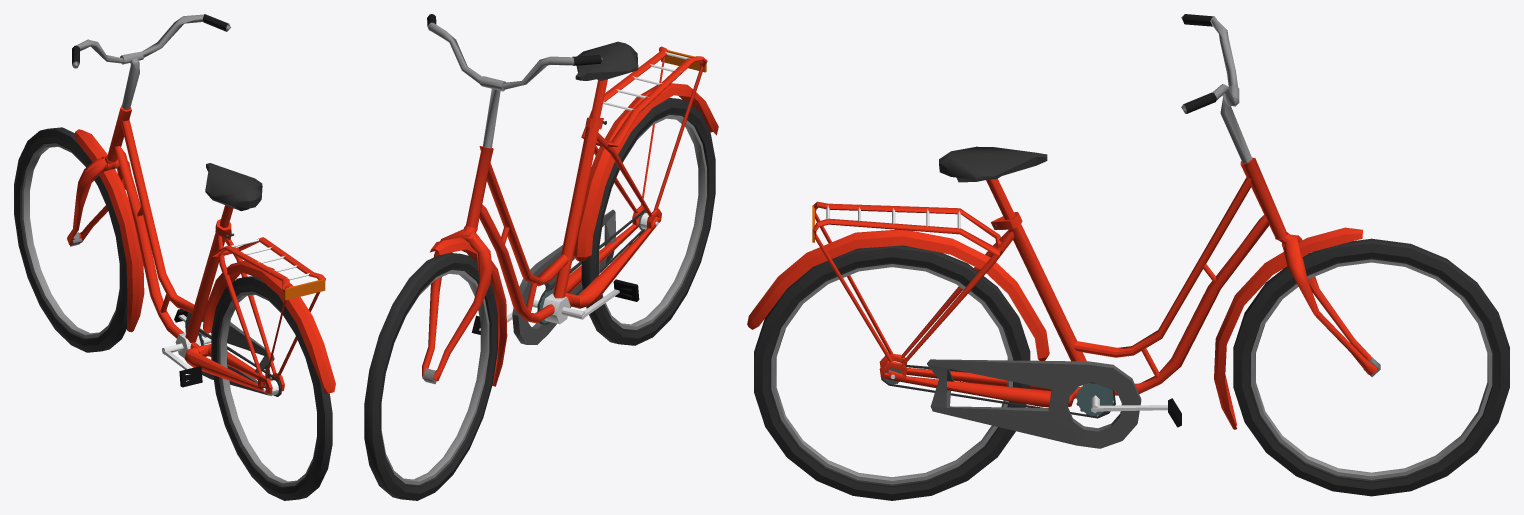
The model's file is bike_city.glb.
3 views of the same model, side by side, from view 1: azimuth 30°, elevation 25°; view 2: azimuth 150°, elevation 25°; view 3: azimuth 270°, elevation 25° (orthographic). The views are drawn at different scales.
Visible parts, largest first — view 1: Runko_Material.001_0; view 2: Runko_Material.001_0; view 3: Runko_Material.001_0.
Boxes of the visible parts, left/top/right/bottom form: Runko_Material.001_0: left=14, top=14, right=335, bottom=500; Runko_Material.001_0: left=364, top=14, right=718, bottom=500; Runko_Material.001_0: left=747, top=14, right=1509, bottom=500.
Bounding box in the file's own units: 0.4749 × 1.05 × 1.63.
Materials: 2 (1 with a texture image).
